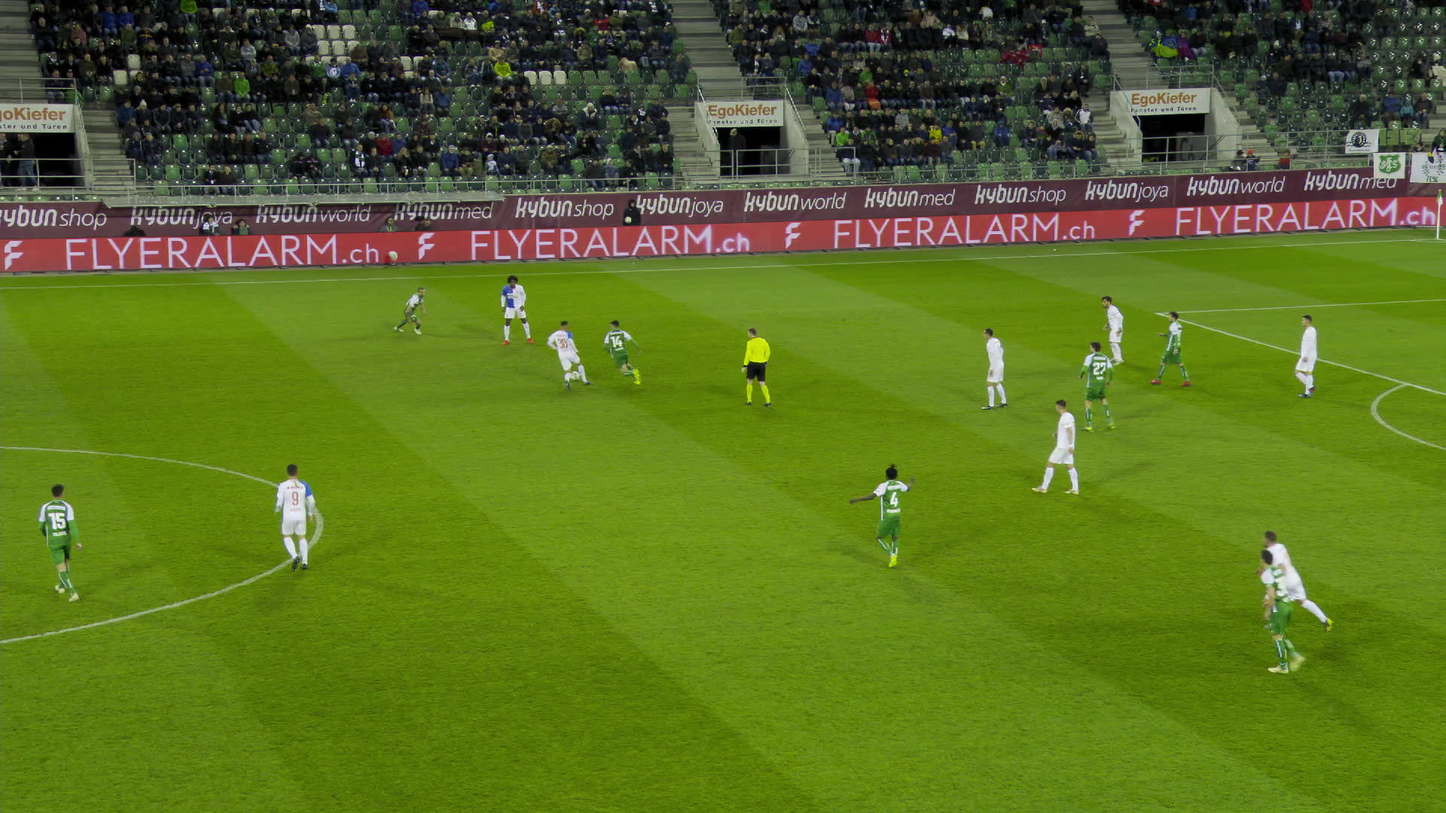ball: (571, 372, 580, 380)
player: (1247, 531, 1334, 631), (1254, 554, 1319, 677), (850, 462, 921, 571), (41, 483, 88, 602), (273, 464, 317, 575), (1036, 398, 1082, 498), (1078, 340, 1118, 431), (601, 319, 651, 389), (542, 321, 592, 390), (1154, 309, 1191, 387), (1293, 314, 1325, 399), (501, 276, 535, 345), (981, 327, 1008, 410), (1102, 294, 1127, 366), (399, 286, 427, 335)
referee: (741, 327, 772, 406)
